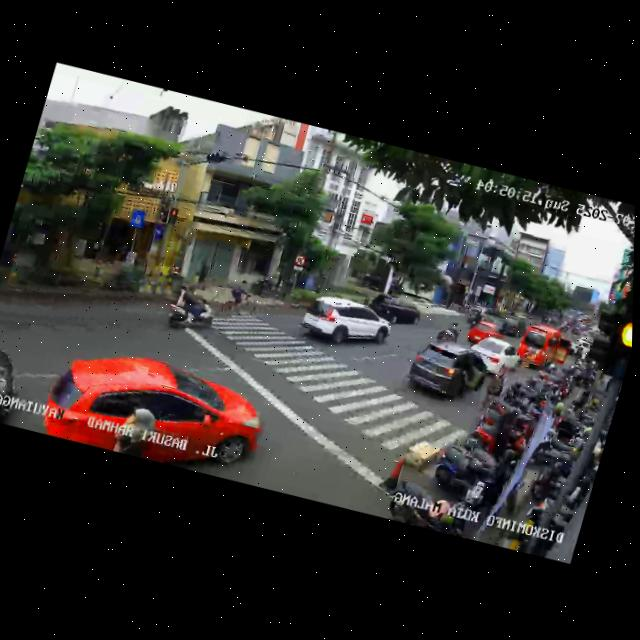car: (36, 332, 273, 487), (400, 335, 493, 413), (295, 287, 394, 360), (514, 321, 576, 379), (463, 330, 523, 383), (0, 330, 30, 424), (366, 288, 424, 332), (463, 315, 500, 350), (496, 313, 525, 340)
motorcycle: (162, 280, 221, 338), (440, 318, 461, 347)
